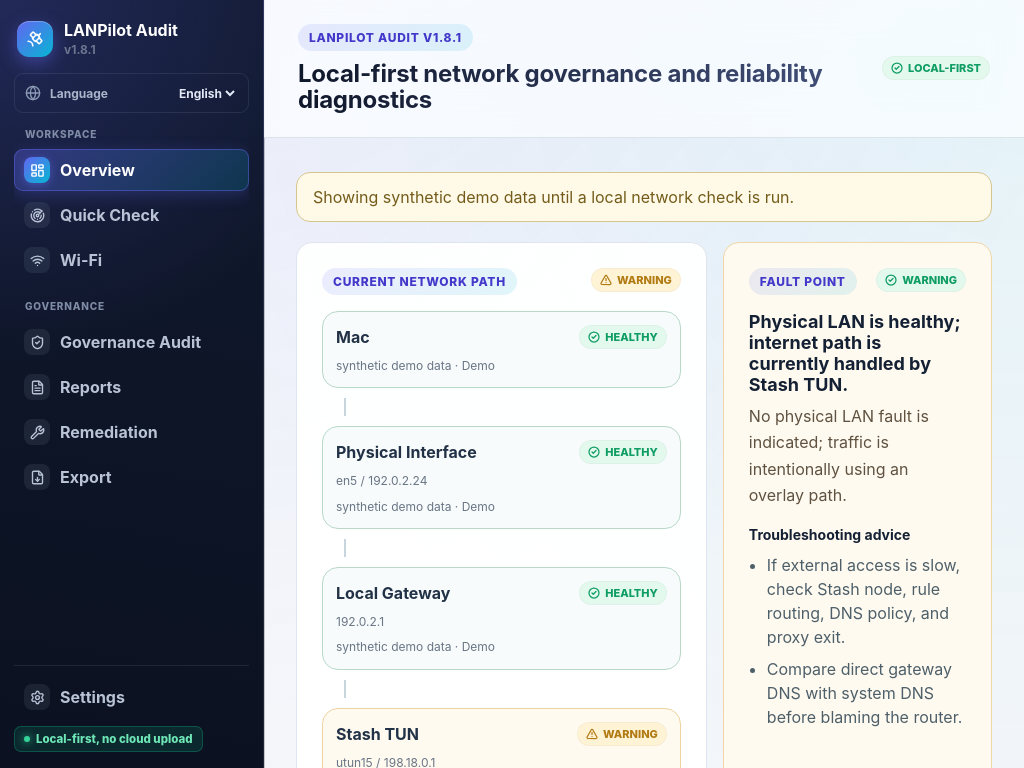
it: localization › shows missing report files without crashing
Click the button "Reports": (132,387) [14,366,249,408]
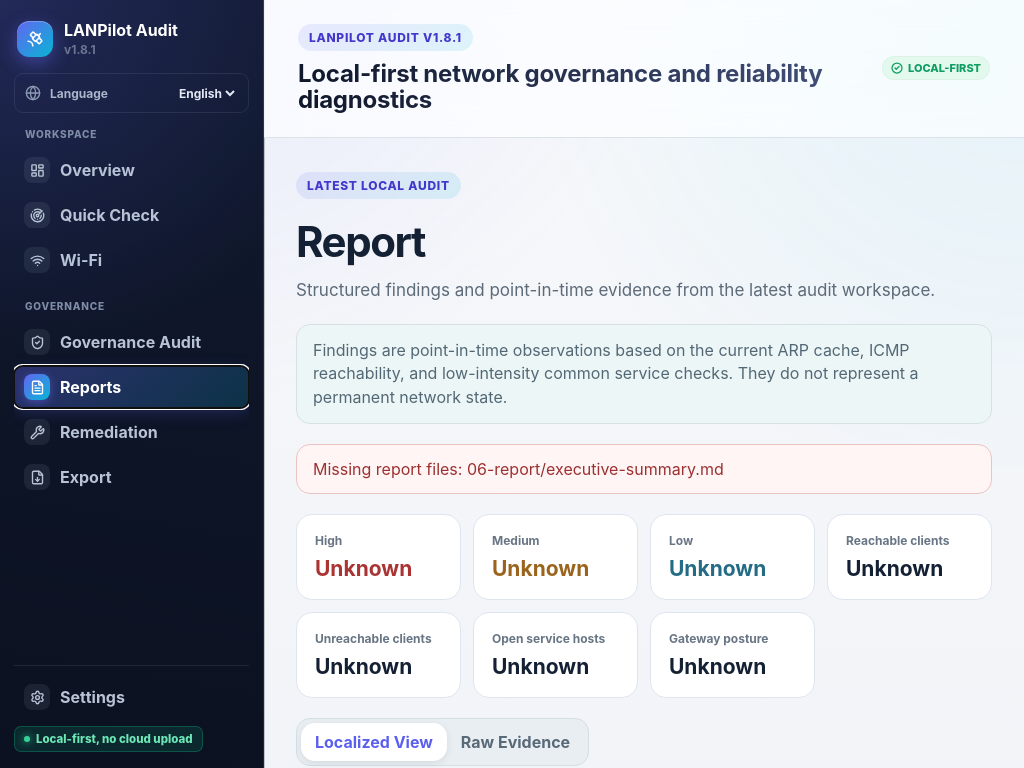
Expected: the text "Missing report files: 06-report/executive-summary.md" is shown, [296,444,992,494]
Expected: the text "Unknown" below "High" is shown, [315,556,412,581]
